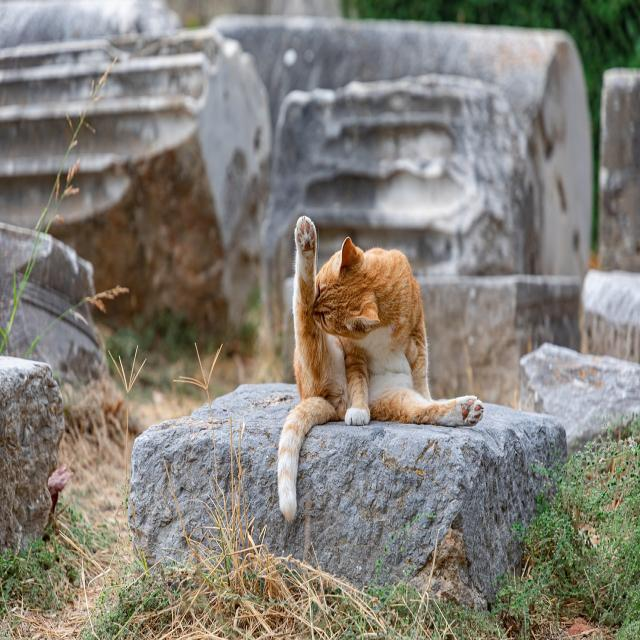cat: (278, 218, 484, 517)
